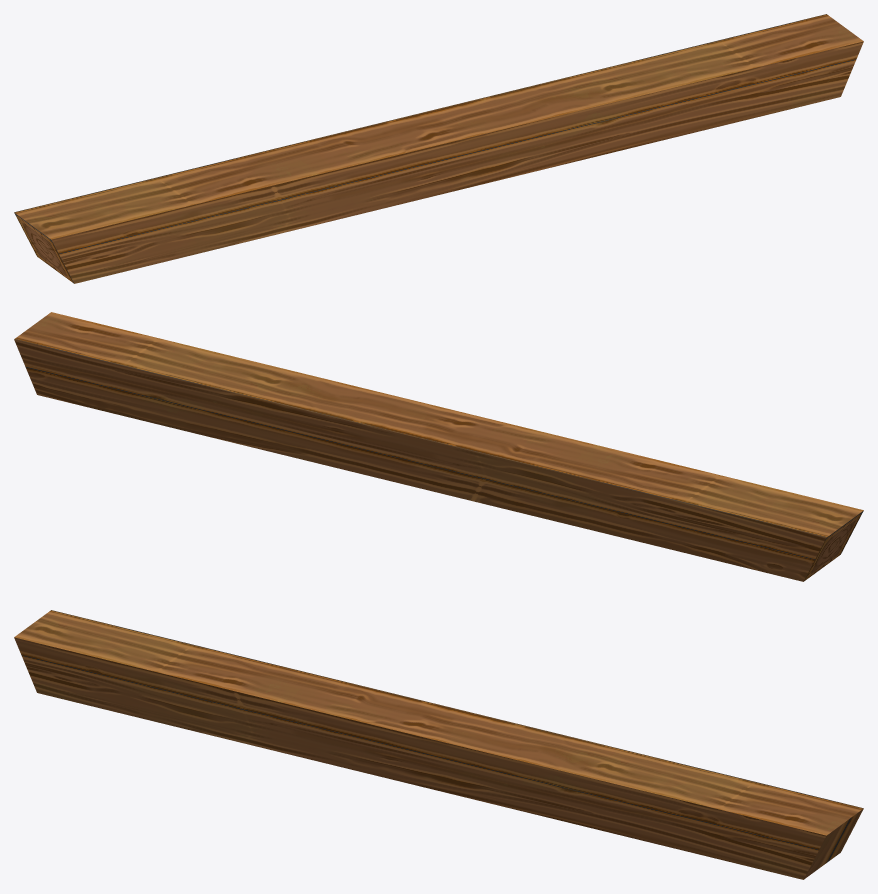
3 views of the same model, one above another, from view 1: azimuth 30°, elevation 25°; view 2: azimuth 150°, elevation 25°; view 3: azimuth 330°, elevation 25° (orthographic).
Visible parts, largest first — view 1: Cube.939; view 2: Cube.939; view 3: Cube.939.
Part boxes in pixels (x1=…): Cube.939: x1=14, y1=14, x2=863, y2=283; Cube.939: x1=14, y1=312, x2=863, y2=581; Cube.939: x1=14, y1=610, x2=863, y2=879.
Size of the model in its own units: 635 by 37.29 by 50.56.
1 material, 1 textured.
